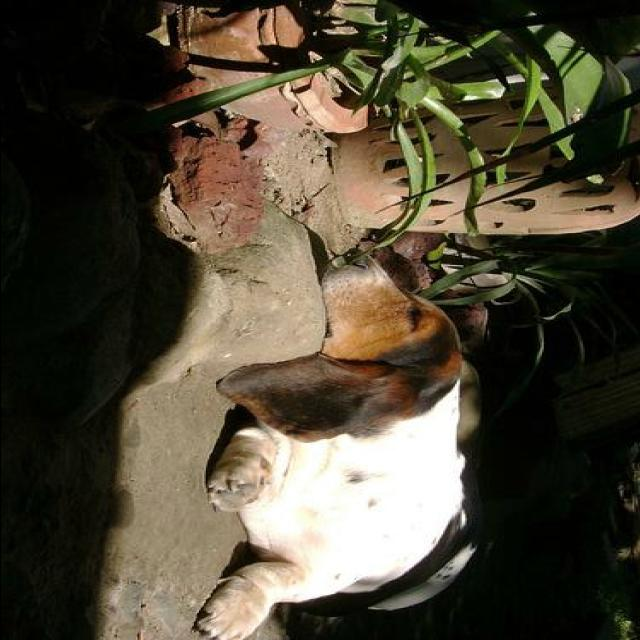basset: (188, 246, 498, 638)
